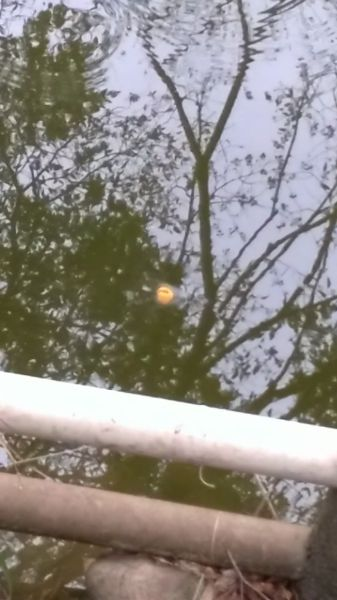eggs: (153, 281, 180, 310)
